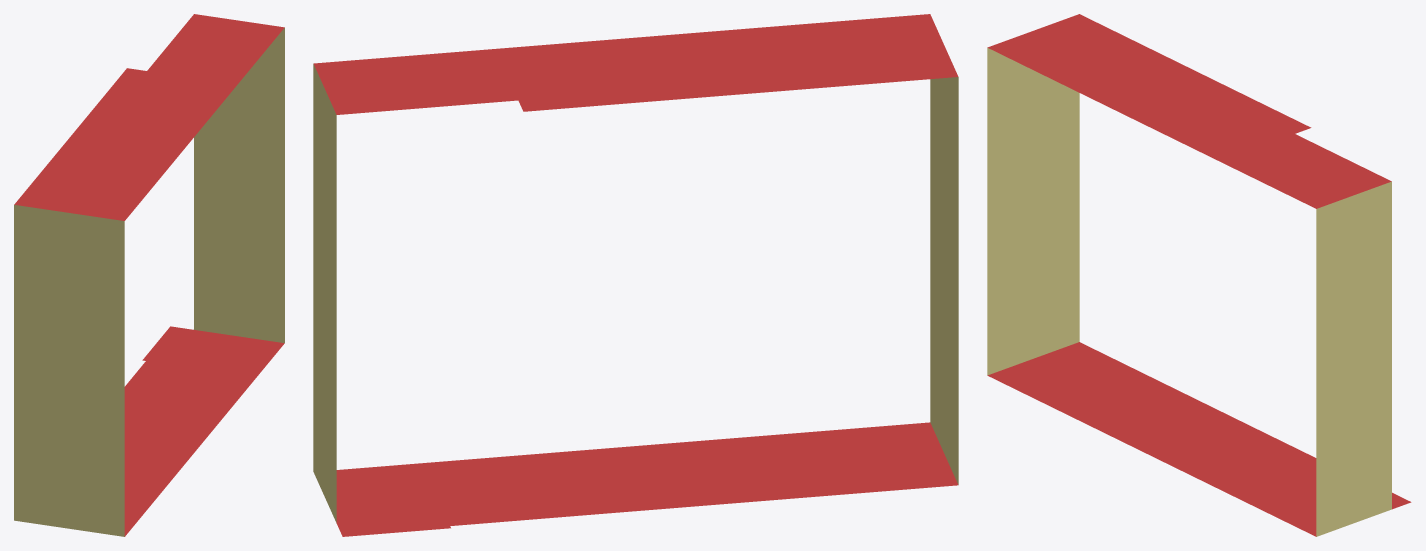
3 views of the same model, side by side, from view 1: azimuth 30°, elevation 25°; view 2: azimuth 150°, elevation 25°; view 3: azimuth 270°, elevation 25° (orthographic). The views are drawn at different scales.
Size of the model in its own units: 10.49 by 9.65 by 8.23.
